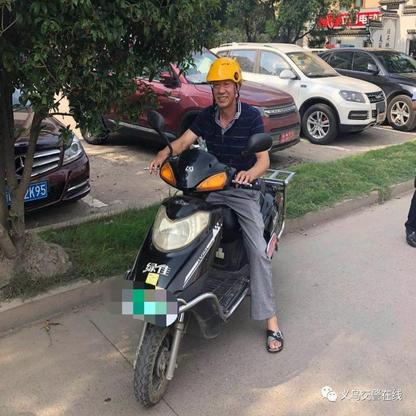target: (121, 55, 294, 410)
